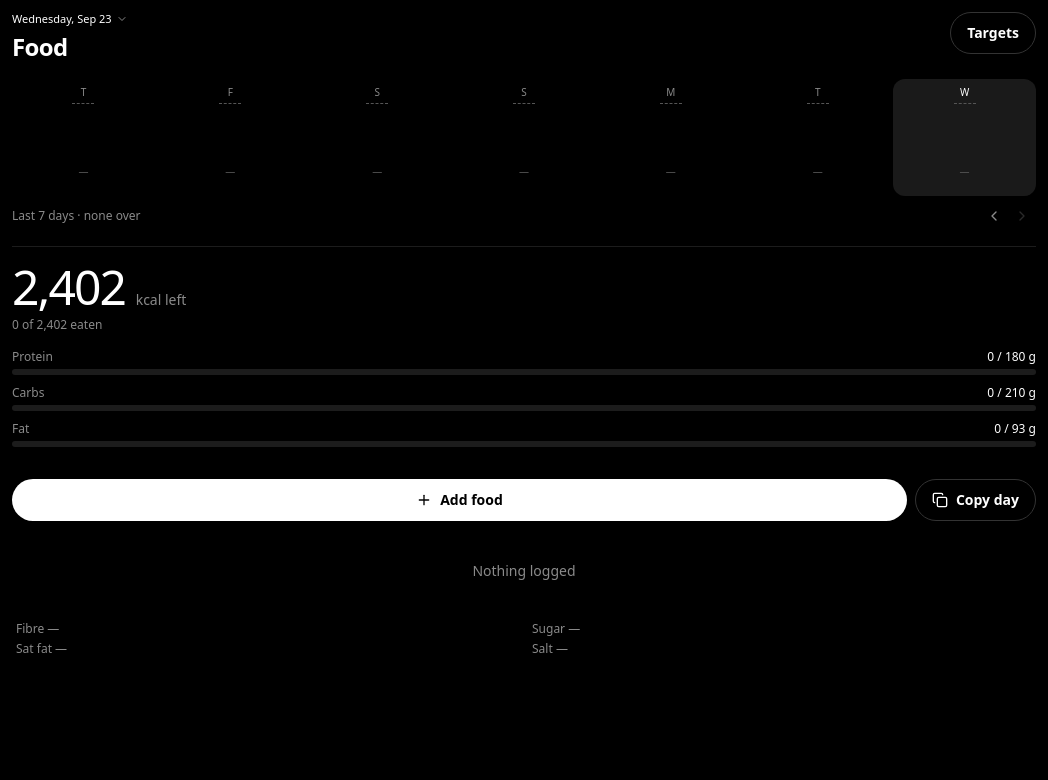
Scenario: NutritionPage, the last 7 days › opens the previous week's last day with ‹, and › comes back and stops at today
The width and height of the screenshot is (1048, 780).
Expected: the button named "Next week" is disabled, [1008,202,1036,230]
Click the button named "Previous week".
click(994, 216)  # box [980,202,1008,230]
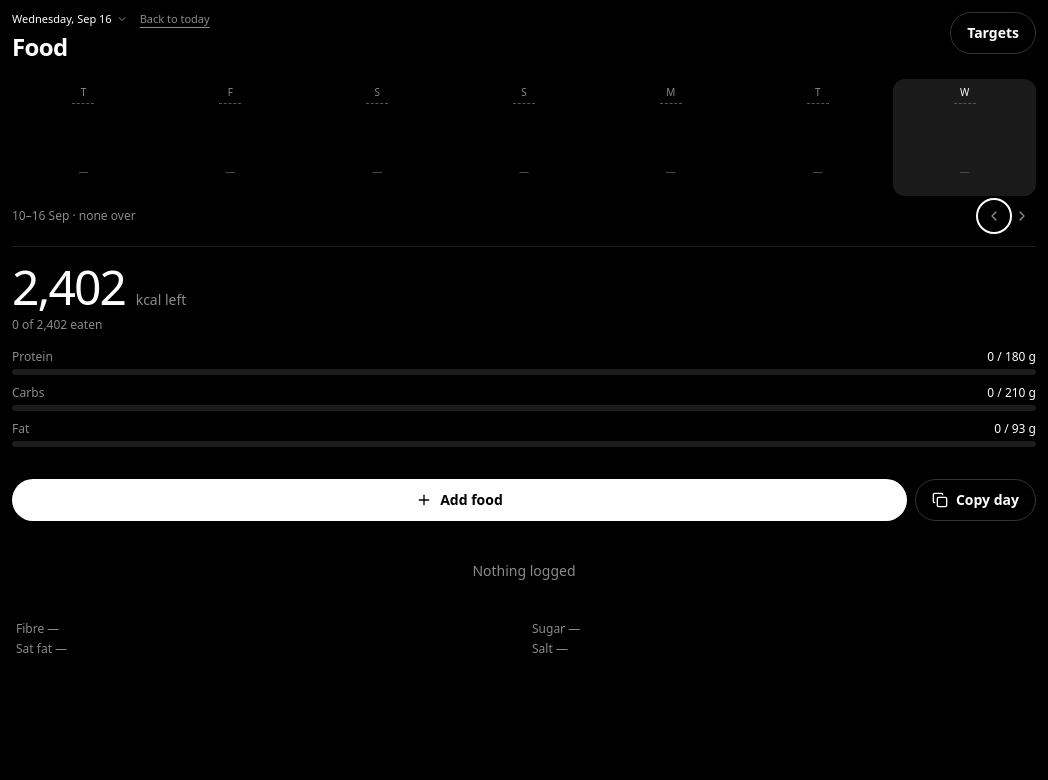
Expected: the element named "10–16 Sep" is shown, [12,79,1036,196]
Click the button named "Next week".
click(1022, 216)  # box [1008,202,1036,230]
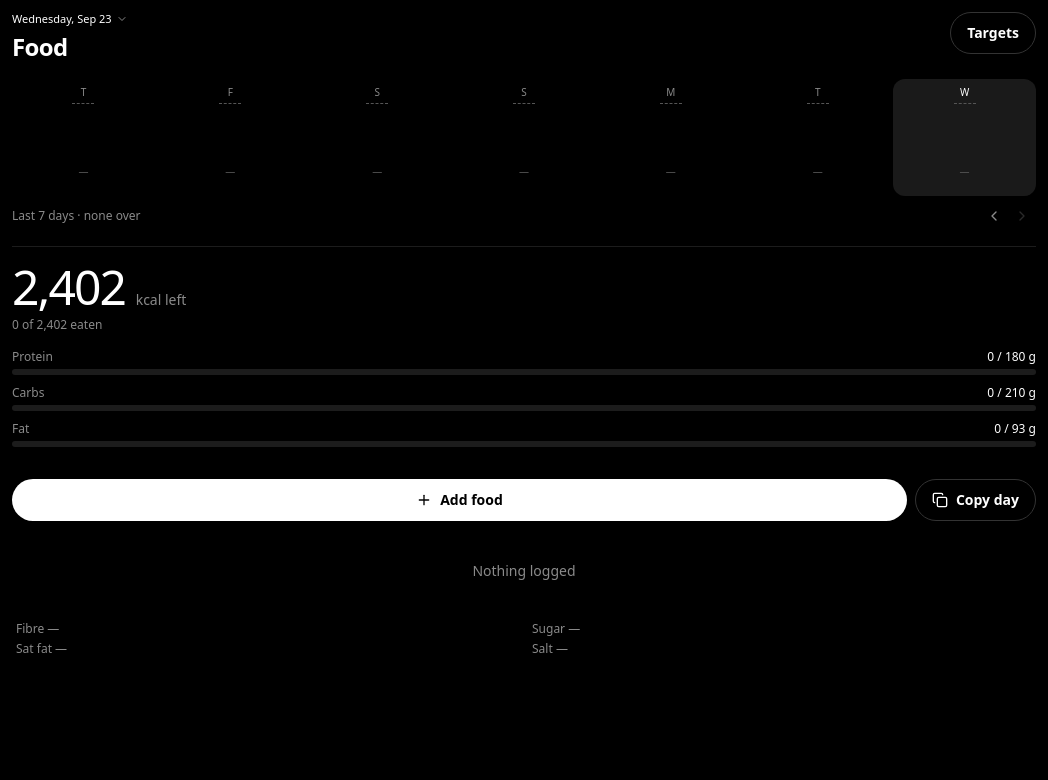
Expected: the element named "Last 7 days" is shown, [12,79,1036,196]
Expected: the button named "Next week" is disabled, [1008,202,1036,230]
